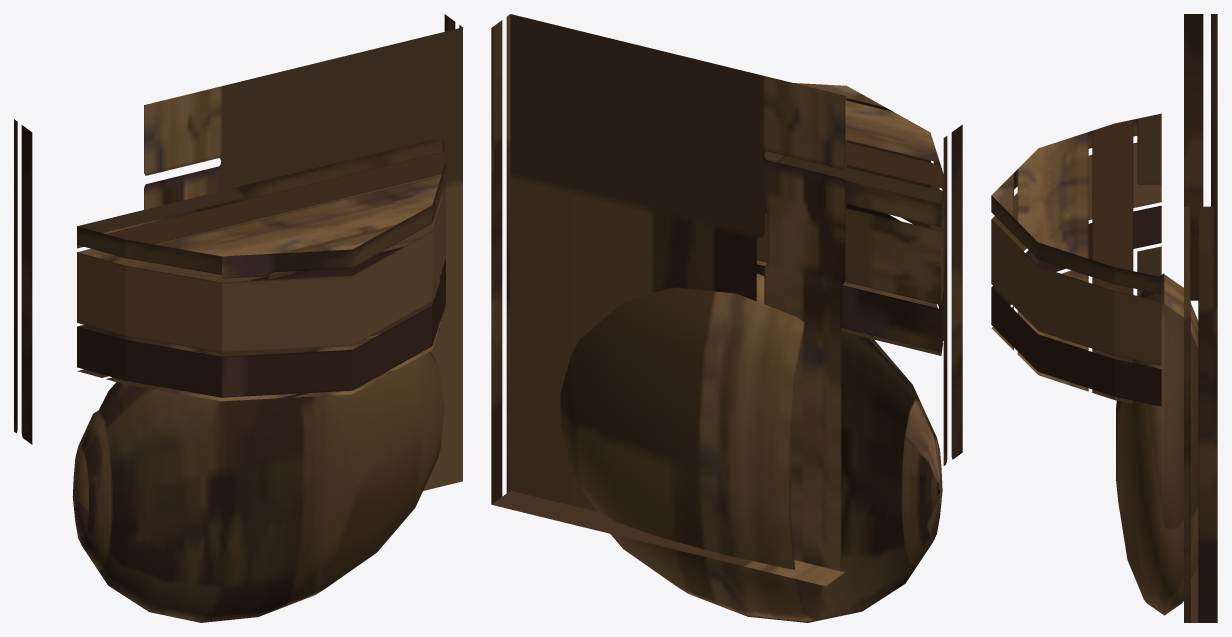
Rendered from section-3.obj.
3 views of the same model, side by side, from view 1: azimuth 30°, elevation 25°; view 2: azimuth 150°, elevation 25°; view 3: azimuth 270°, elevation 25° (orthographic). The views are drawn at different scales.
Bounding box in the file's own units: 0.8398 × 0.9864 × 0.4164.
